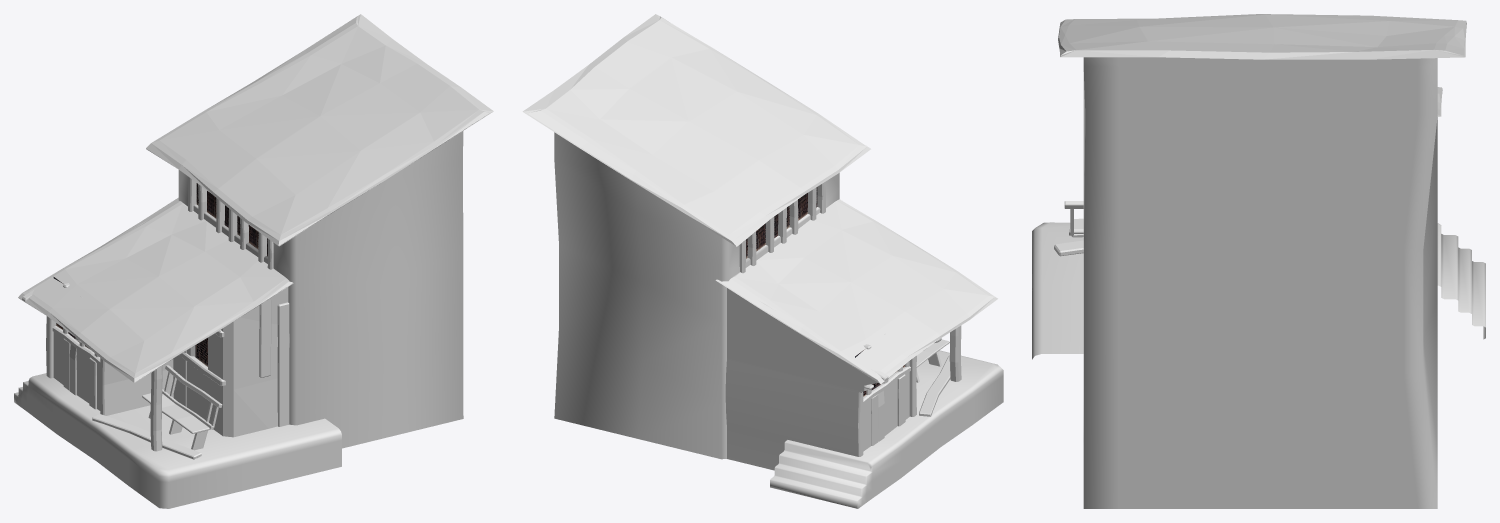
The model's file is Maison02.fbx.
3 views of the same model, side by side, from view 1: azimuth 30°, elevation 25°; view 2: azimuth 150°, elevation 25°; view 3: azimuth 270°, elevation 25° (orthographic). The views are drawn at different scales.
Visible parts, largest first — view 1: Cube.006, Plane.001, Plane, Cube.001, Cube.008, Cube.003, Cube.019, Cube.016, Plane.002, Cube.004, Cube.017, Cube.018 (+2 smaller); view 2: Cube.006, Plane.001, Plane, Cube.005, Cube.001, Plane.002, Cube.017, Plane.005, Cube.004; view 3: Cube.006, Plane.001, Cube.001.
Boxes of the visible parts, x1,y1,x2,y2 form: Cube.006: (178,131,463,448); Plane.001: (146,14,493,246); Plane: (18,197,293,382); Cube.001: (14,373,341,508); Cube.008: (173,287,288,437); Cube.003: (75,337,173,415); Cube.019: (142,365,222,450); Cube.016: (277,302,289,426); Plane.002: (53,332,100,410); Cube.004: (150,366,162,451); Cube.017: (92,414,201,459); Cube.018: (259,298,271,377); Cube.006: (554,132,839,459); Plane.001: (522,14,870,246); Plane: (715,199,997,384); Cube.005: (725,288,888,470); Cube.001: (770,350,1003,508); Plane.002: (863,372,909,451); Cube.017: (919,356,950,416); Plane.005: (746,187,817,258); Cube.004: (949,325,961,381); Cube.006: (1083,57,1437,508); Plane.001: (1058,14,1466,59); Cube.001: (1032,222,1485,359).
Size of the model in its own units: 1801 by 1523 by 1324.
